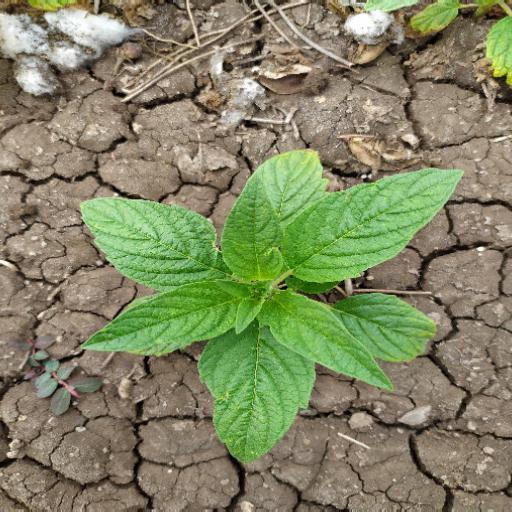crop: (79, 140, 478, 456)
